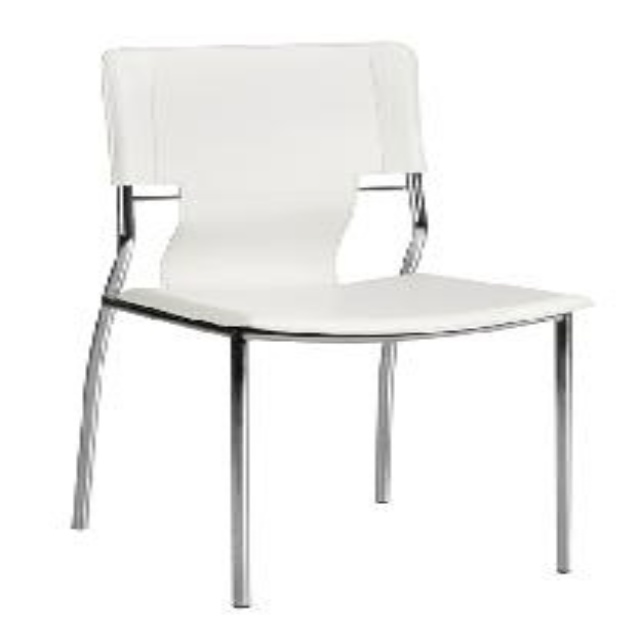obstacle: (105, 43, 588, 606)
